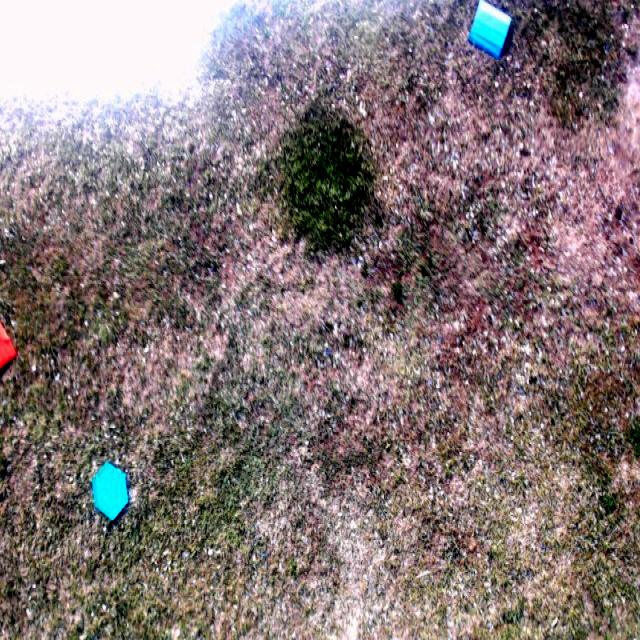blue_hexagon: (91, 460, 130, 525)
blue_square: (466, 0, 513, 60)
red_triangle: (0, 320, 18, 376)
